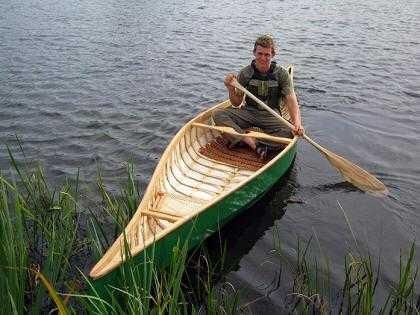kayak: (88, 97, 299, 281)
